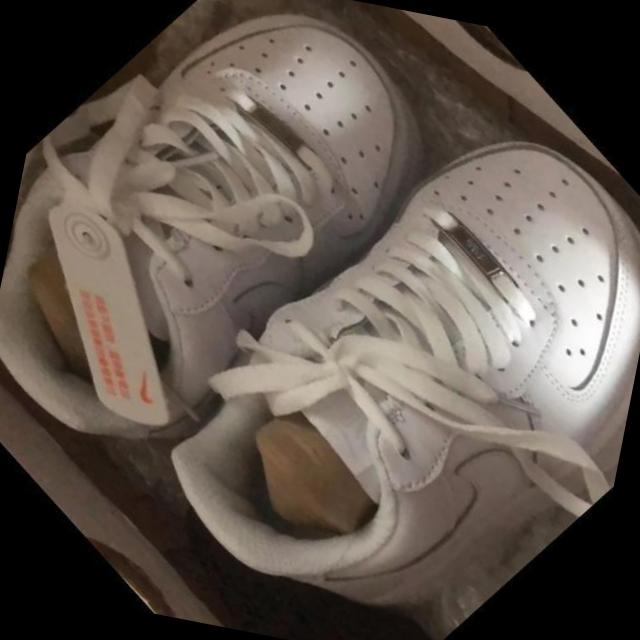nike_fake_airforce: (89, 25, 640, 640), (0, 0, 506, 548)
